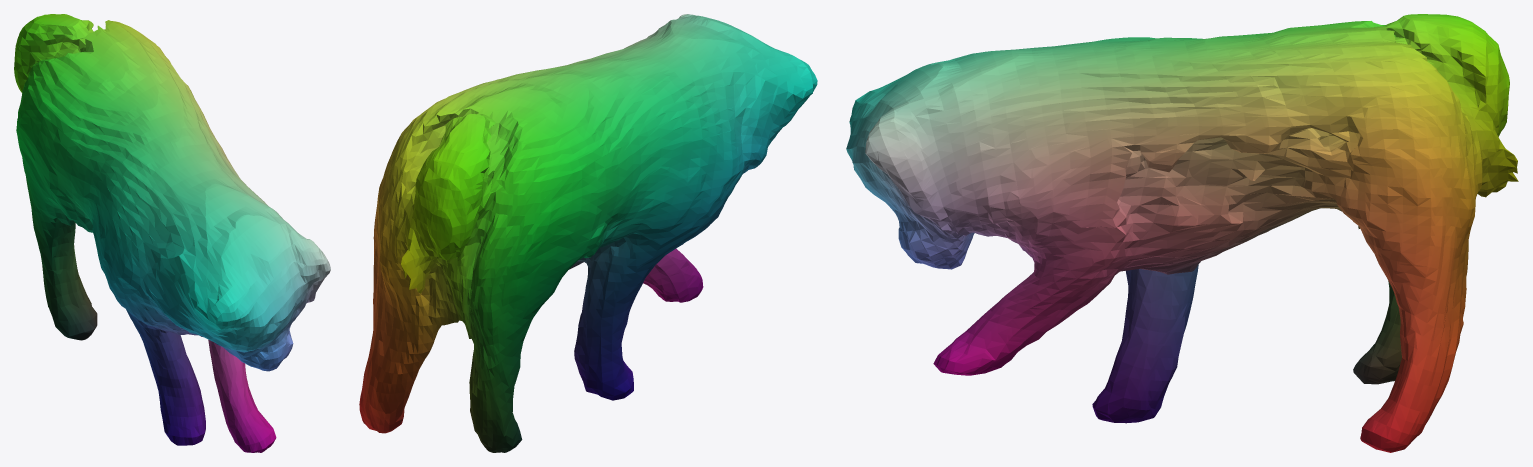
File: shiba-haru-1001-mesh-00030.obj
3 renders of one model, left to right at view 1: azimuth 30°, elevation 25°; view 2: azimuth 150°, elevation 25°; view 3: azimuth 270°, elevation 25°, orthographic. The views are drawn at different scales.
Bounding box in the file's own units: 0.0529 × 0.0835 × 0.1244.
